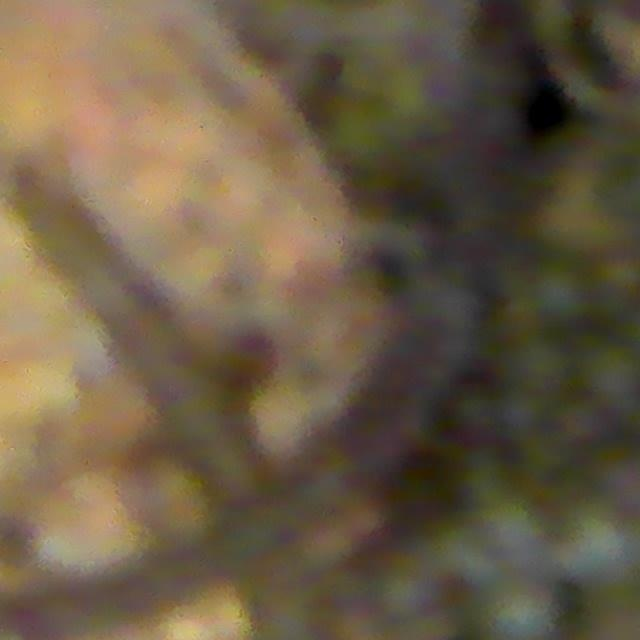SeaGrape: (482, 580, 556, 640), (528, 261, 592, 325), (505, 333, 570, 396), (580, 343, 640, 409)
